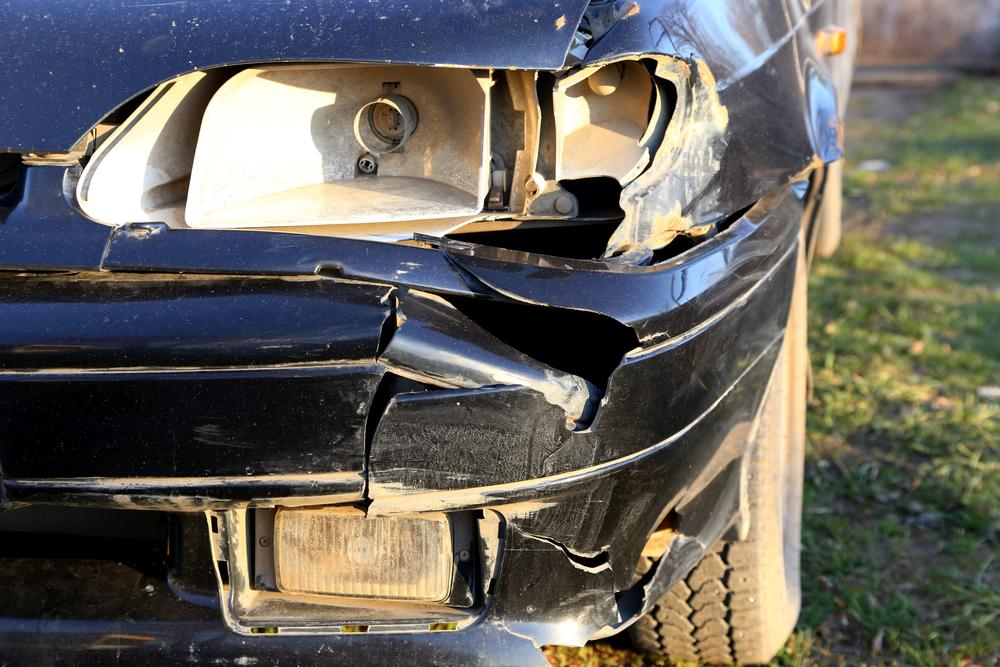crack: (440, 251, 669, 475), (501, 491, 707, 667), (361, 288, 452, 496)
lamp broken: (79, 59, 675, 255)
